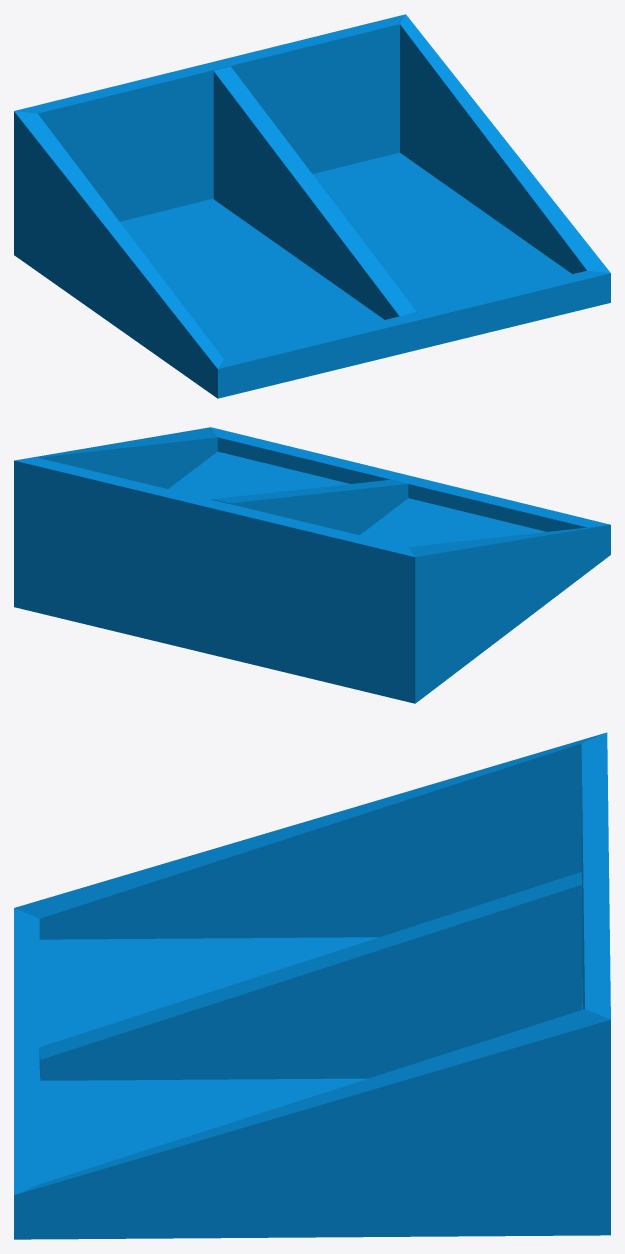
The model's file is Sellers Box 02.fbx.
3 renders of one model, top to bottom at view 1: azimuth 30°, elevation 25°; view 2: azimuth 150°, elevation 25°; view 3: azimuth 270°, elevation 25°, orthographic. The views are drawn at different scales.
Parts seen in each view (by area): view 1: Sellers Box 02; view 2: Sellers Box 02; view 3: Sellers Box 02.
Part boxes in pixels (x1=…): Sellers Box 02: x1=14, y1=14, x2=610, y2=398; Sellers Box 02: x1=14, y1=427, x2=610, y2=703; Sellers Box 02: x1=14, y1=732, x2=610, y2=1239.
Bounding box in the file's own units: 160 × 55.36 × 139.
